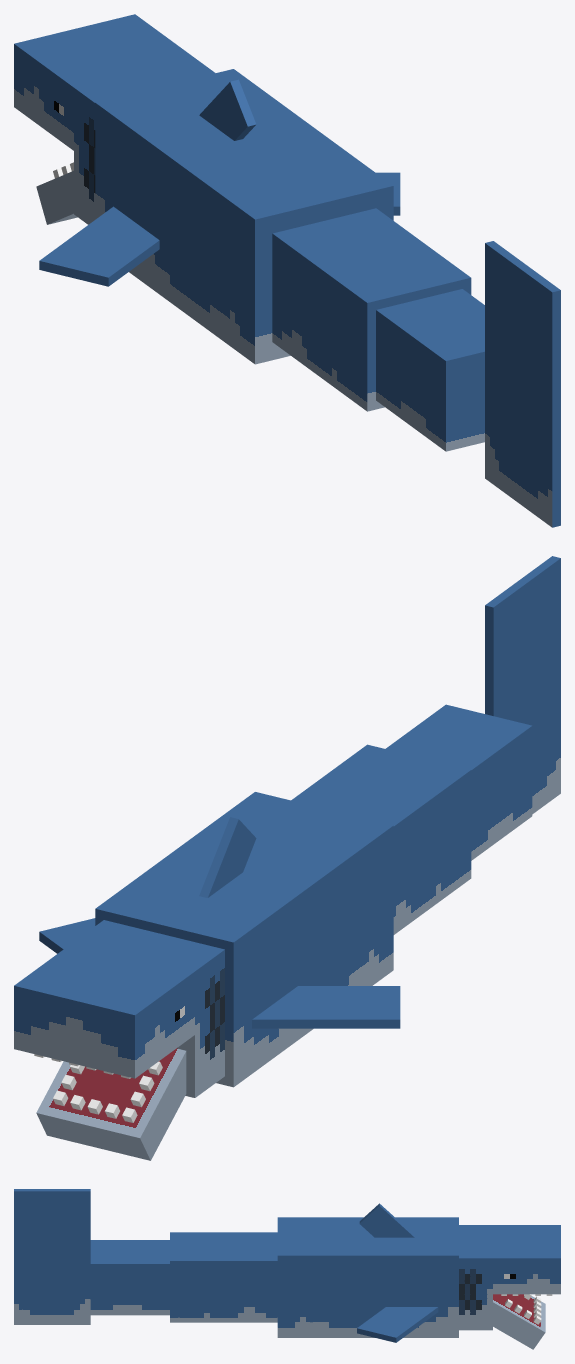
Rendered from Shark.gltf.
The picture shows the model from 3 angles, top to bottom: view 1: azimuth 30°, elevation 25°; view 2: azimuth 150°, elevation 25°; view 3: azimuth 270°, elevation 25°; orthographic projection. The views are drawn at different scales.
Parts seen in each view (by area): view 1: cuboid; view 2: cuboid; view 3: cuboid.
Part boxes in pixels (box(x1,y1,x2,y2)): cuboid: box(14, 14, 560, 527); cuboid: box(14, 556, 560, 1160); cuboid: box(14, 1189, 560, 1349).
Bounding box in the file's own units: 2.61 × 1.77 × 6.03.
Materials: 2 (1 with a texture image).
